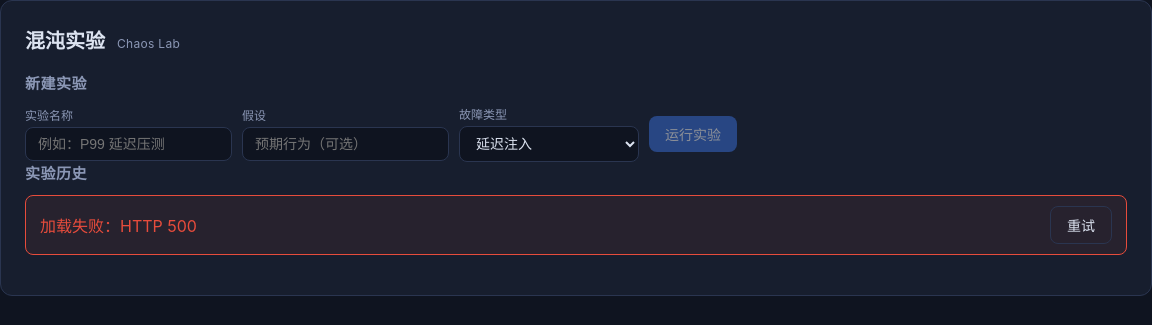
Test: Chaos Lab 加固 › 历史加载失败展示错误面板，点击重试后恢复
The width and height of the screenshot is (1152, 325).
Expected: the text "加载失败：HTTP 500" is shown, [40,216,197,236]
Click the button "重试" at (1081, 225), box [1050,206,1112,244]
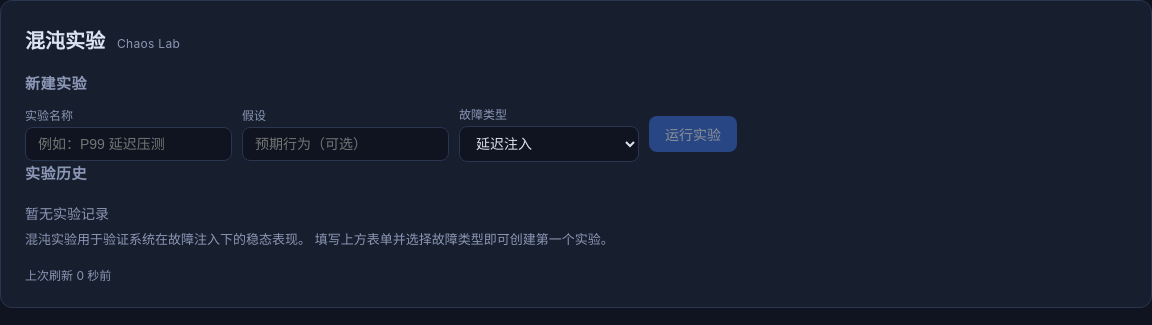
Expected: the text "暂无实验记录" is shown, [25,205,109,222]
